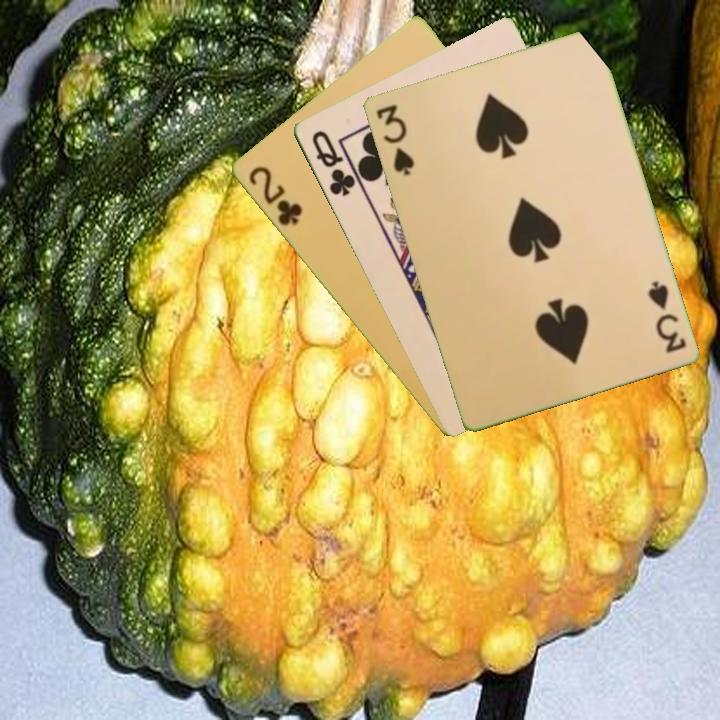2c: (244, 162, 305, 229)
3s: (644, 276, 689, 356), (372, 100, 417, 178)
Qc: (307, 126, 358, 200)
